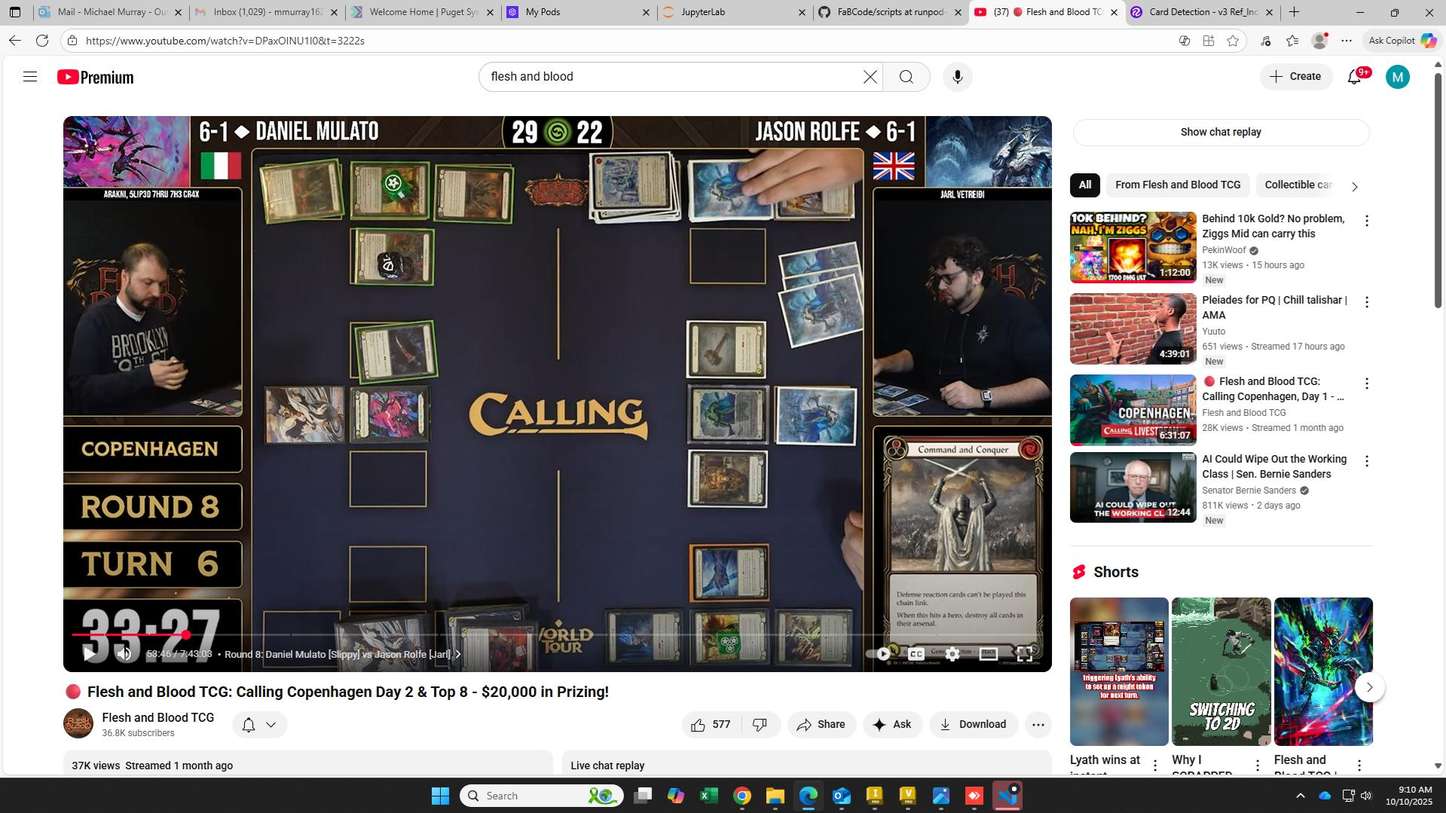Window: (64, 115, 1054, 672)
